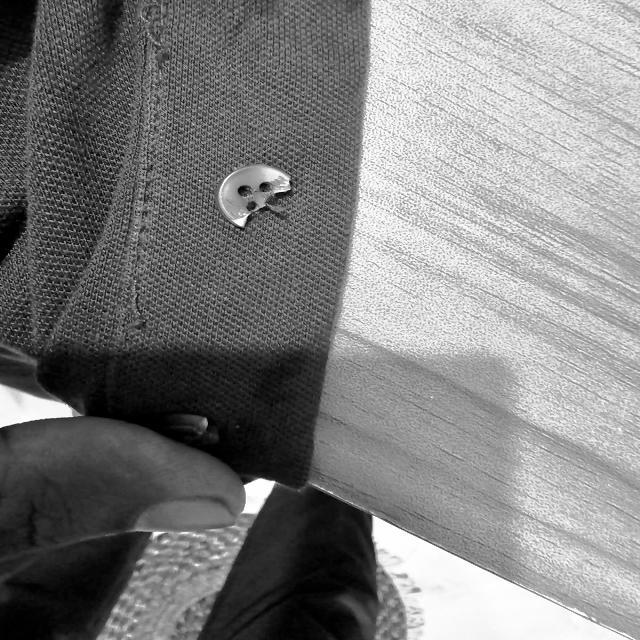Broken_button: (203, 158, 307, 236)
